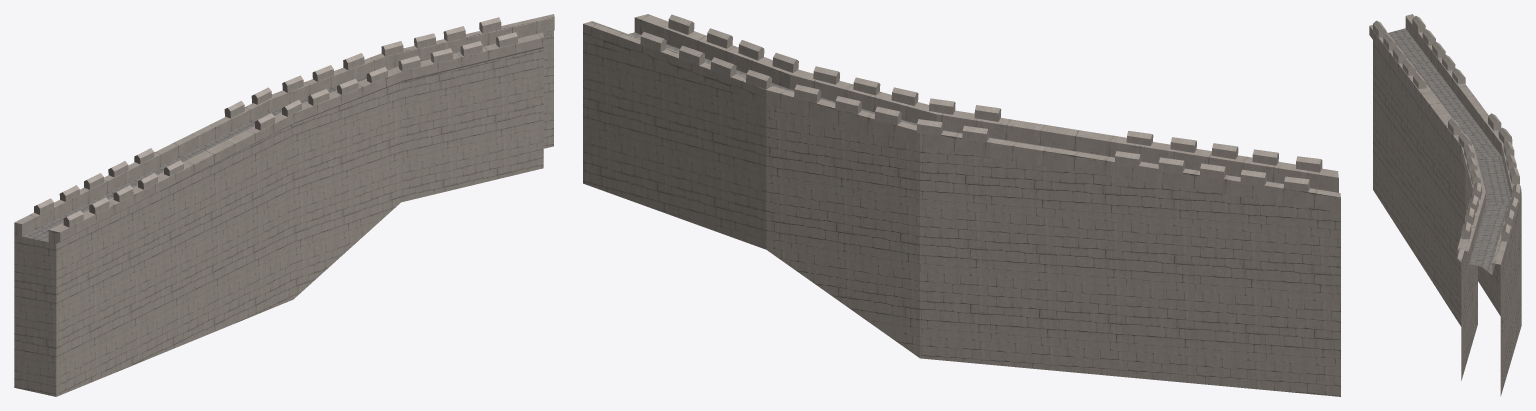
File: CastleWall_B.fbx
3 renders of one model, left to right at view 1: azimuth 30°, elevation 25°; view 2: azimuth 150°, elevation 25°; view 3: azimuth 270°, elevation 25°, orthographic. The views are drawn at different scales.
Visible parts, largest first — view 1: CastleWall_B; view 2: CastleWall_B; view 3: CastleWall_B.
Part boxes in pixels (<box>): CastleWall_B: <box>14,14,554,396</box>; CastleWall_B: <box>583,14,1340,396</box>; CastleWall_B: <box>1369,14,1521,396</box>.
Size of the model in its own units: 16690 by 5823 by 3782.
Materials: 2 (2 with a texture image).
